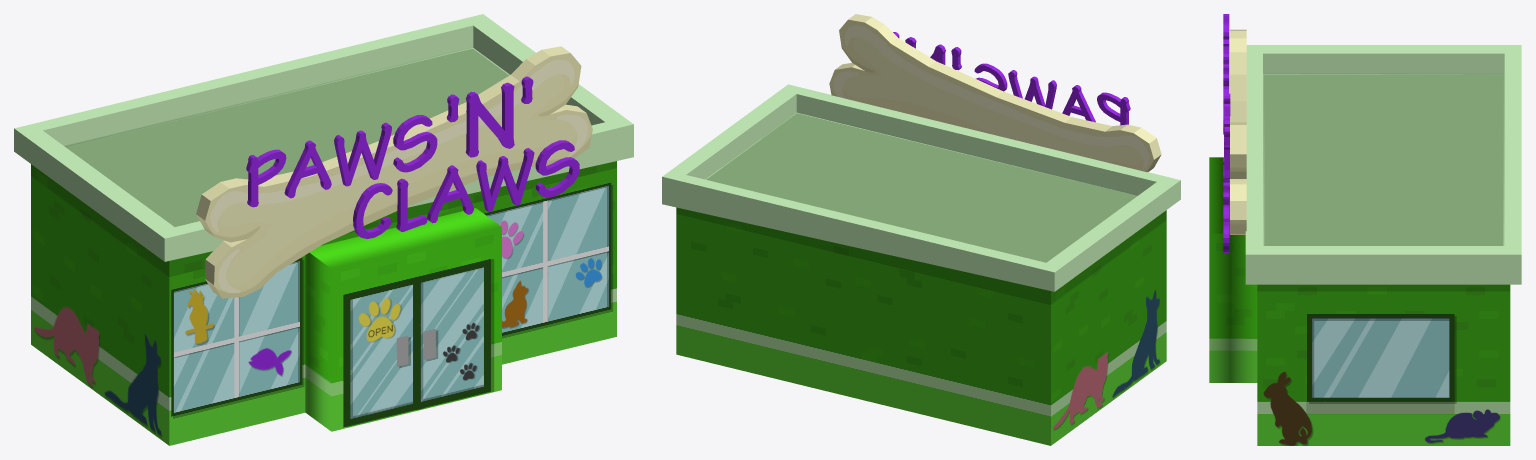
File: city_paws_n_claws.fbx
The picture shows the model from 3 angles, left to right: view 1: azimuth 30°, elevation 25°; view 2: azimuth 150°, elevation 25°; view 3: azimuth 270°, elevation 25°; orthographic projection. The views are drawn at different scales.
Visible parts, largest first — view 1: polySurface491; view 2: polySurface491; view 3: polySurface491.
Part boxes in pixels (x1,y1,x2,y2): polySurface491: [14, 14, 633, 445]; polySurface491: [662, 14, 1180, 445]; polySurface491: [1209, 14, 1521, 445].
Size of the model in its own units: 8.43 by 5.34 by 5.31.
